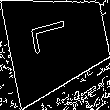L_E: (34, 21, 81, 63)
